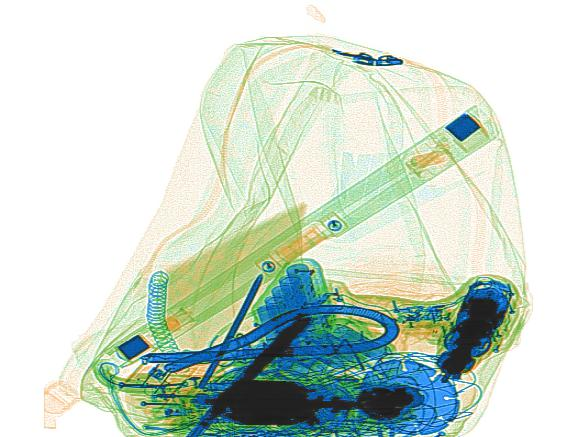battery: (254, 260, 329, 357)
